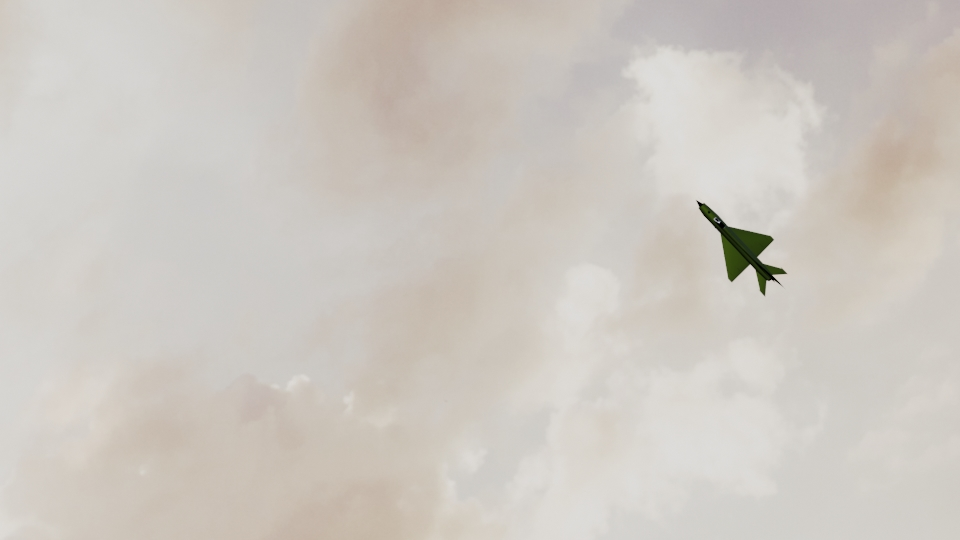plane: (698, 200, 787, 295)
